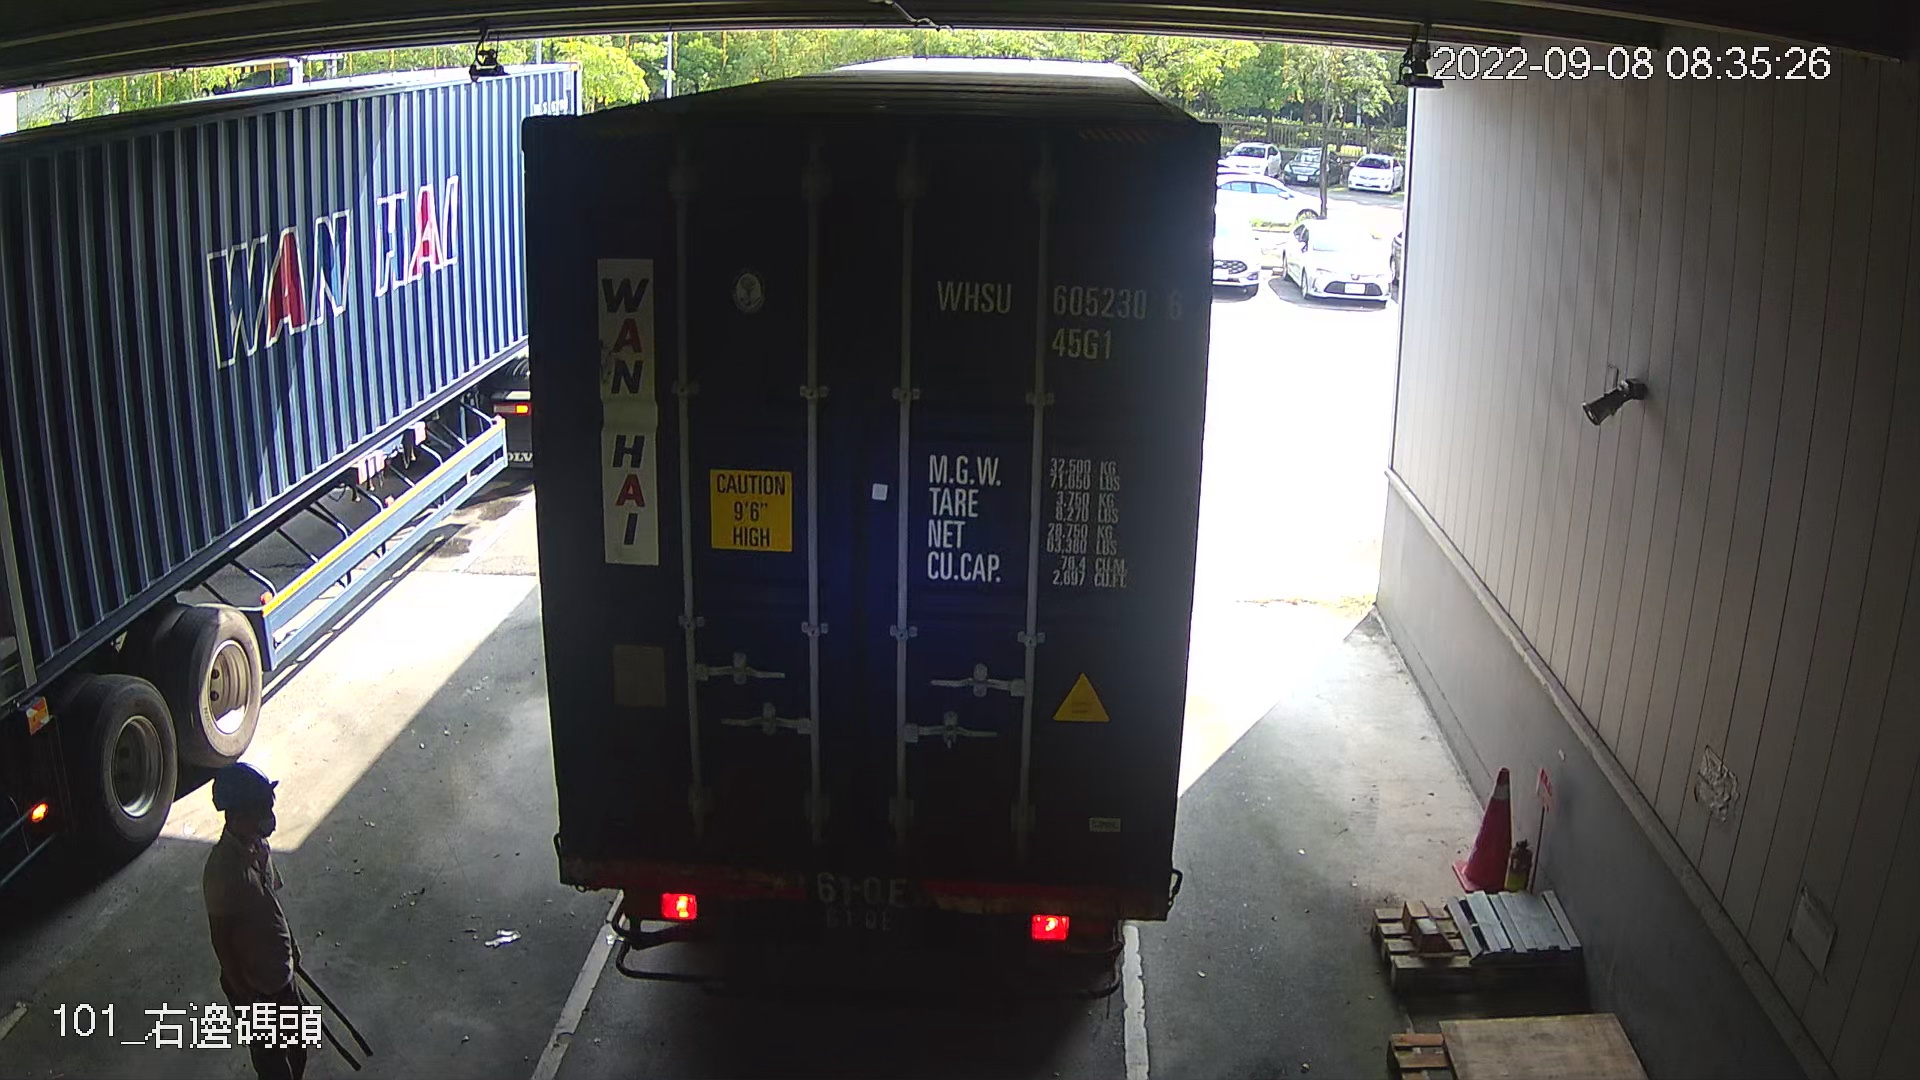container: (919, 262, 1200, 367)
